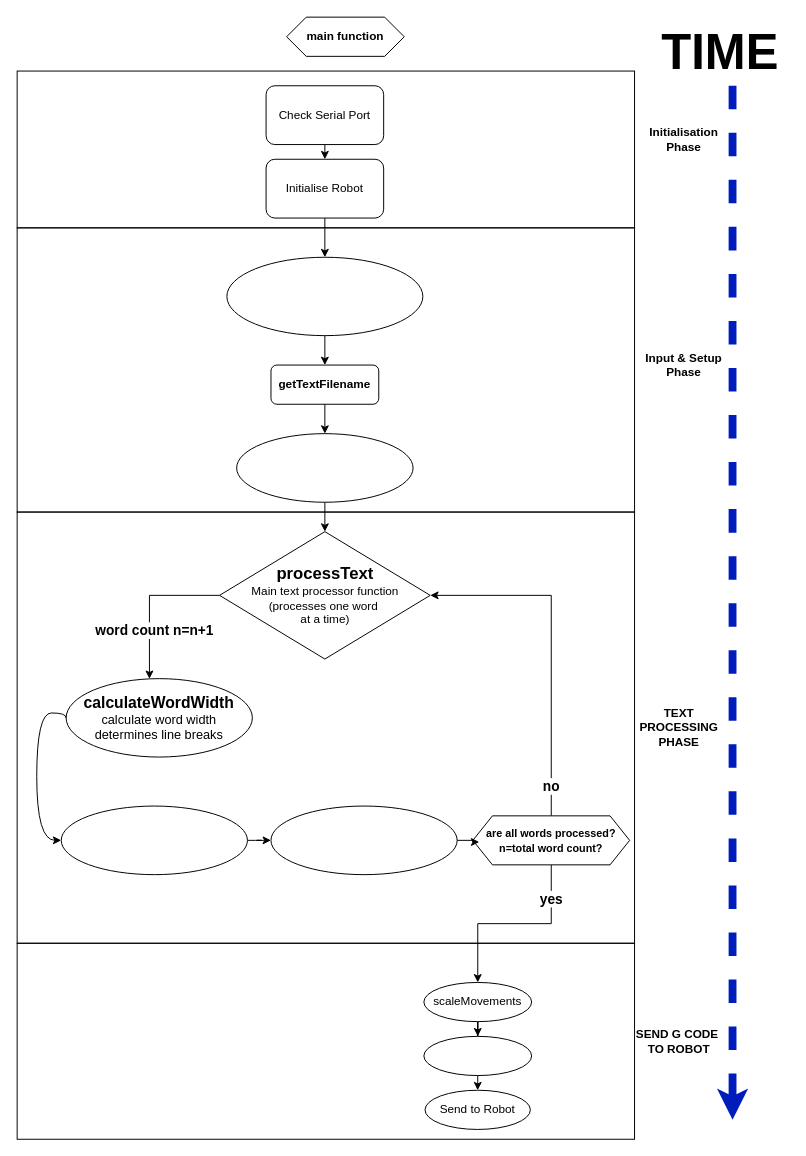
This 806x1156 diagram has some shape labels left out. Each missing label, with the centre of its shape:
"generateGcode" goes at [477,1055].
"getValidHeight Get/Validate Height 4-10mm" goes at [324,296].
"handleLineBreak Make sure no words are split and plot width is not exceeded" goes at [363,840].
"processWord imports ASCII data" goes at [153,840].
"readFontfile Load font data into memory" goes at [324,467].
